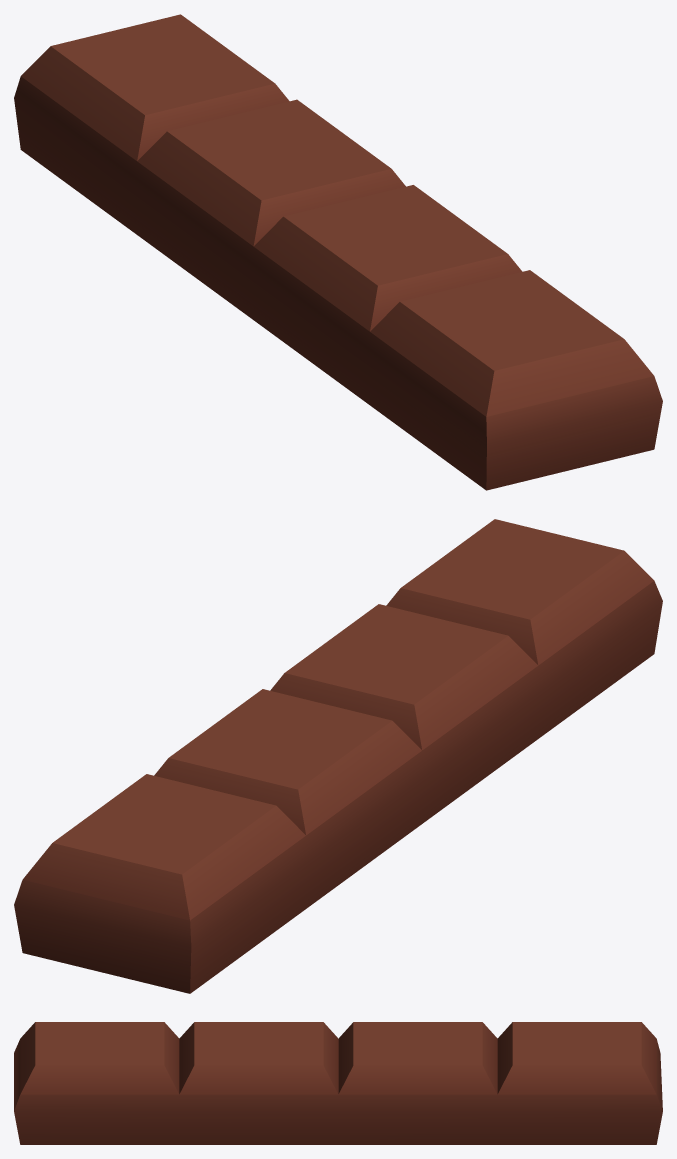
File: chocolate_002.fbx
3 renders of one model, top to bottom at view 1: azimuth 30°, elevation 25°; view 2: azimuth 150°, elevation 25°; view 3: azimuth 270°, elevation 25°, orthographic. The views are drawn at different scales.
Parts seen in each view (by area): view 1: chocolate_002; view 2: chocolate_002; view 3: chocolate_002.
Part boxes in pixels (x1=…): chocolate_002: x1=14, y1=14, x2=662, y2=490; chocolate_002: x1=14, y1=519, x2=662, y2=993; chocolate_002: x1=14, y1=1022, x2=662, y2=1144.
Bounding box in the file's own units: 1.75 × 8.16 × 1.01.
